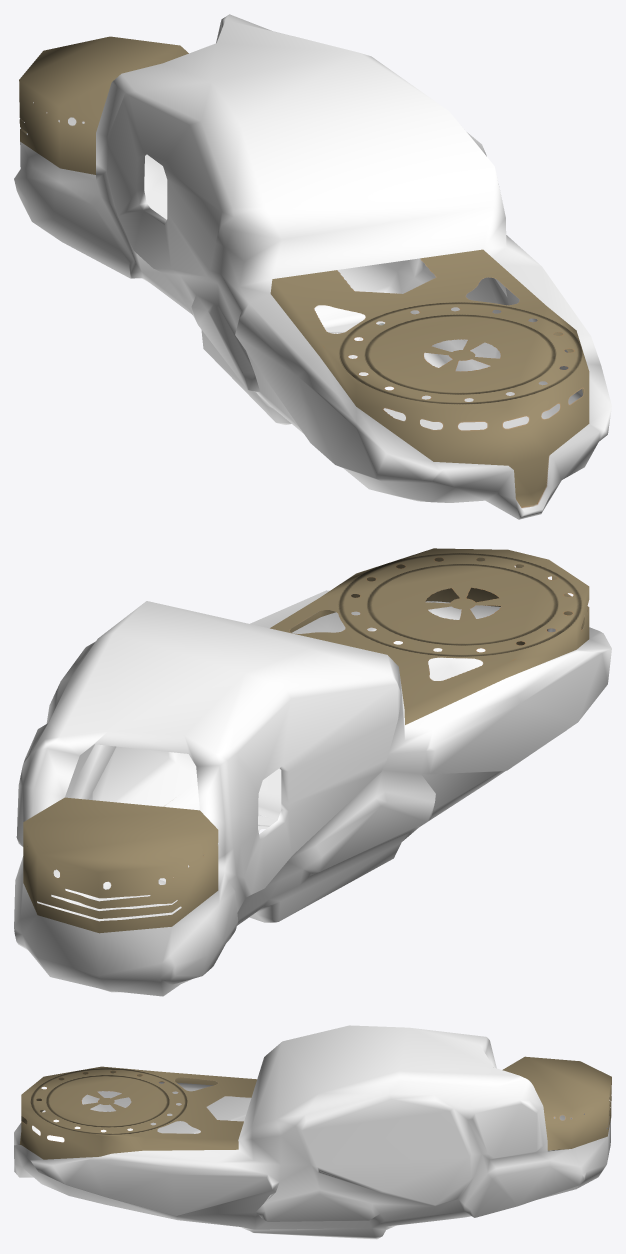
The model's file is lj3_right.obj.
3 renders of one model, top to bottom at view 1: azimuth 30°, elevation 25°; view 2: azimuth 150°, elevation 25°; view 3: azimuth 270°, elevation 25°, orthographic. The views are drawn at different scales.
Bounding box in the file's own units: 0.2161 × 0.1753 × 0.5753.
1 material, 1 textured.
